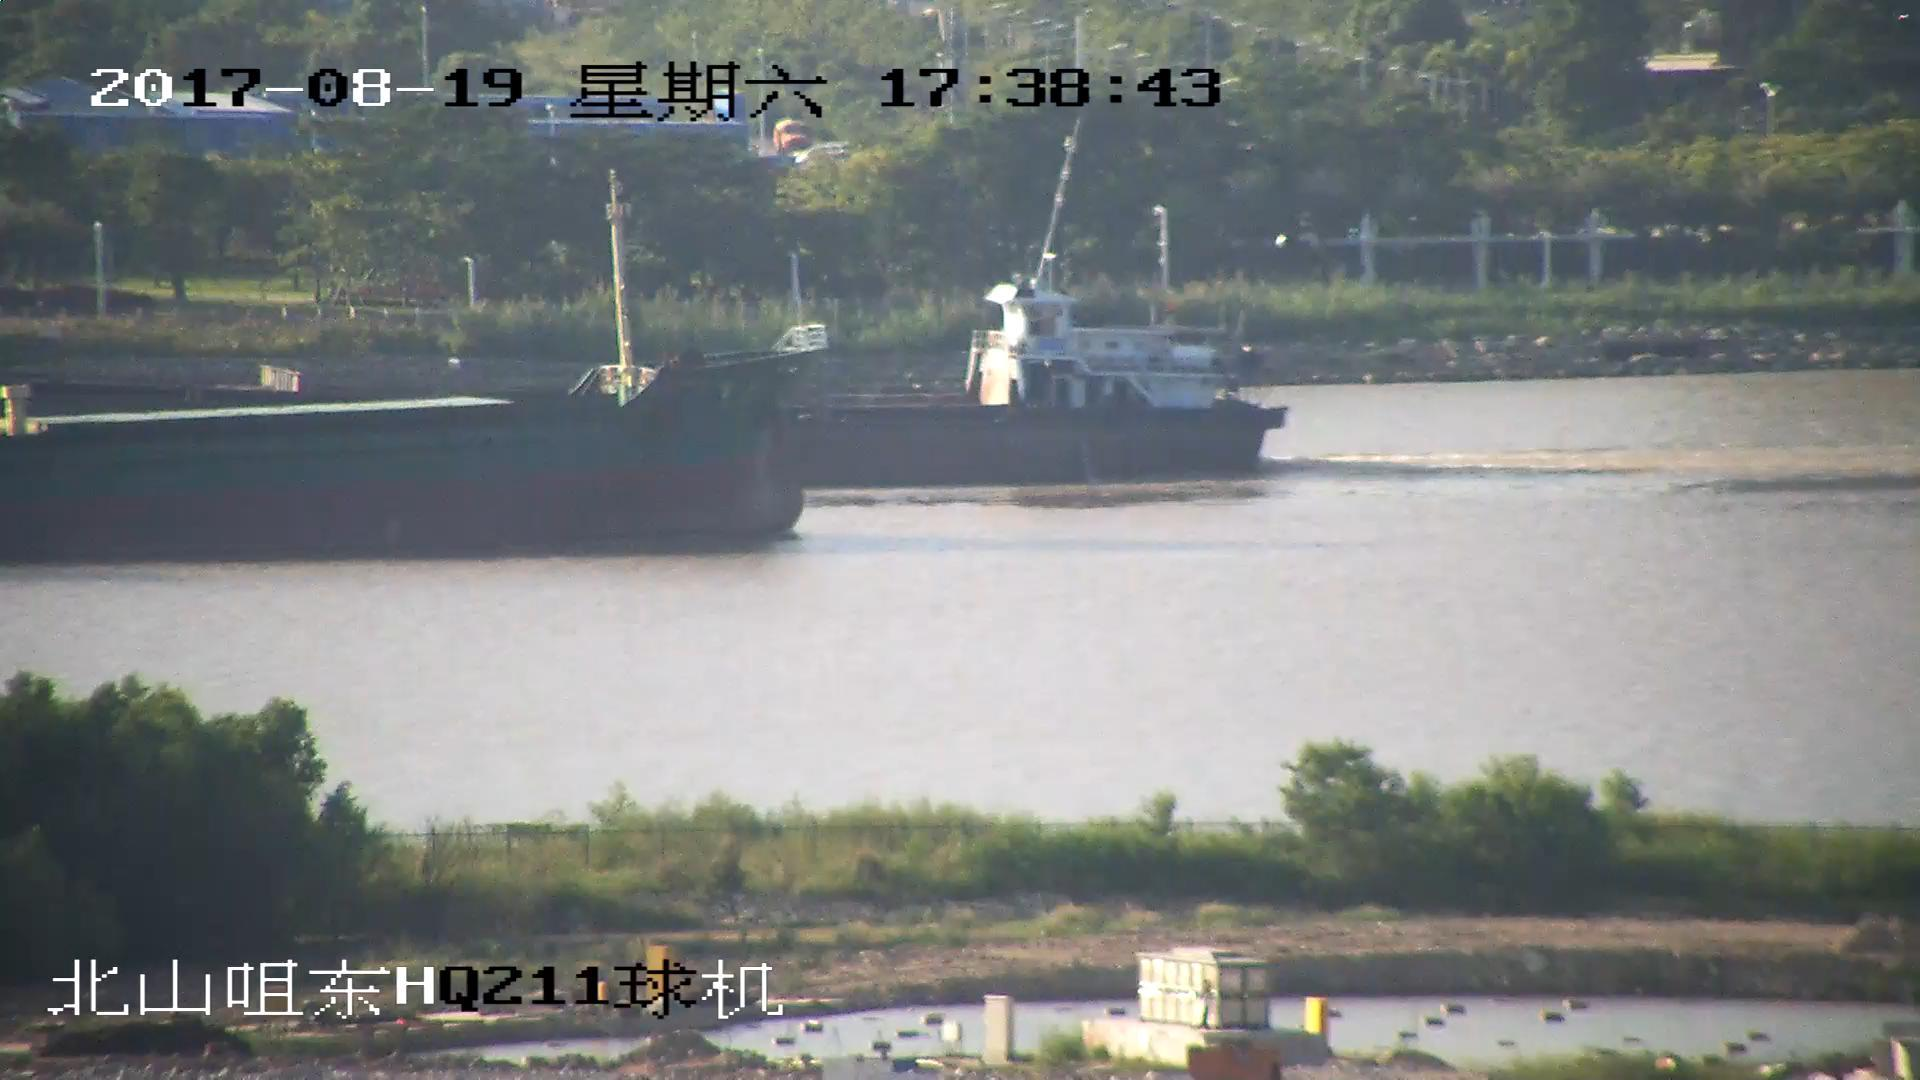Ship: (3, 342, 816, 542), (794, 282, 1262, 469)
